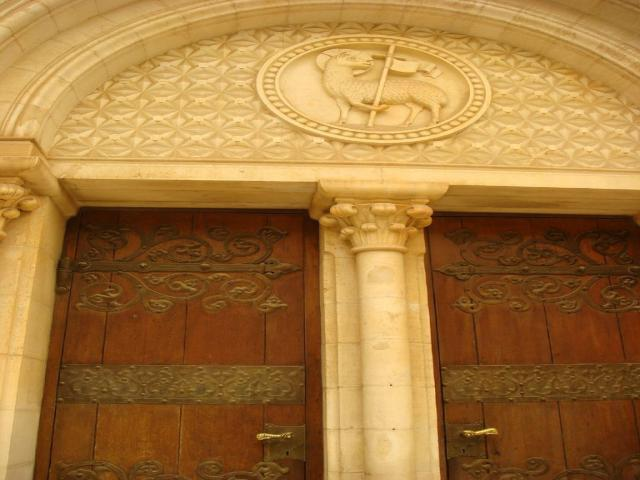Door-handle: (255, 424, 308, 466), (445, 421, 501, 458)
